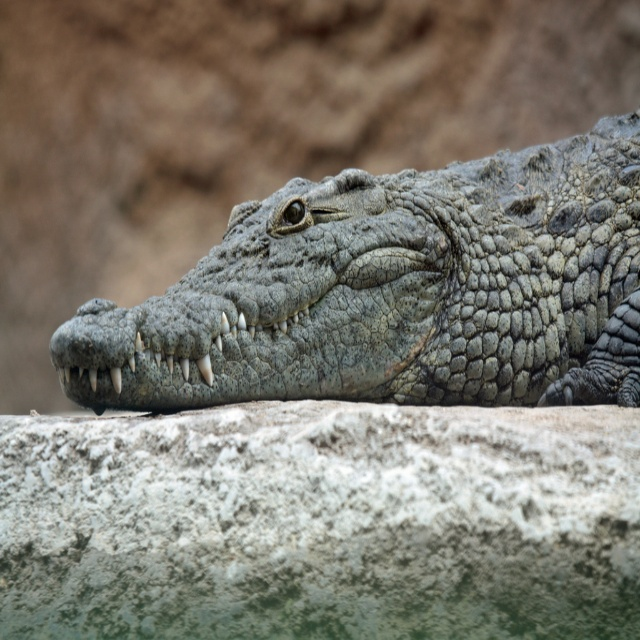Crocodile: (49, 108, 640, 408)
